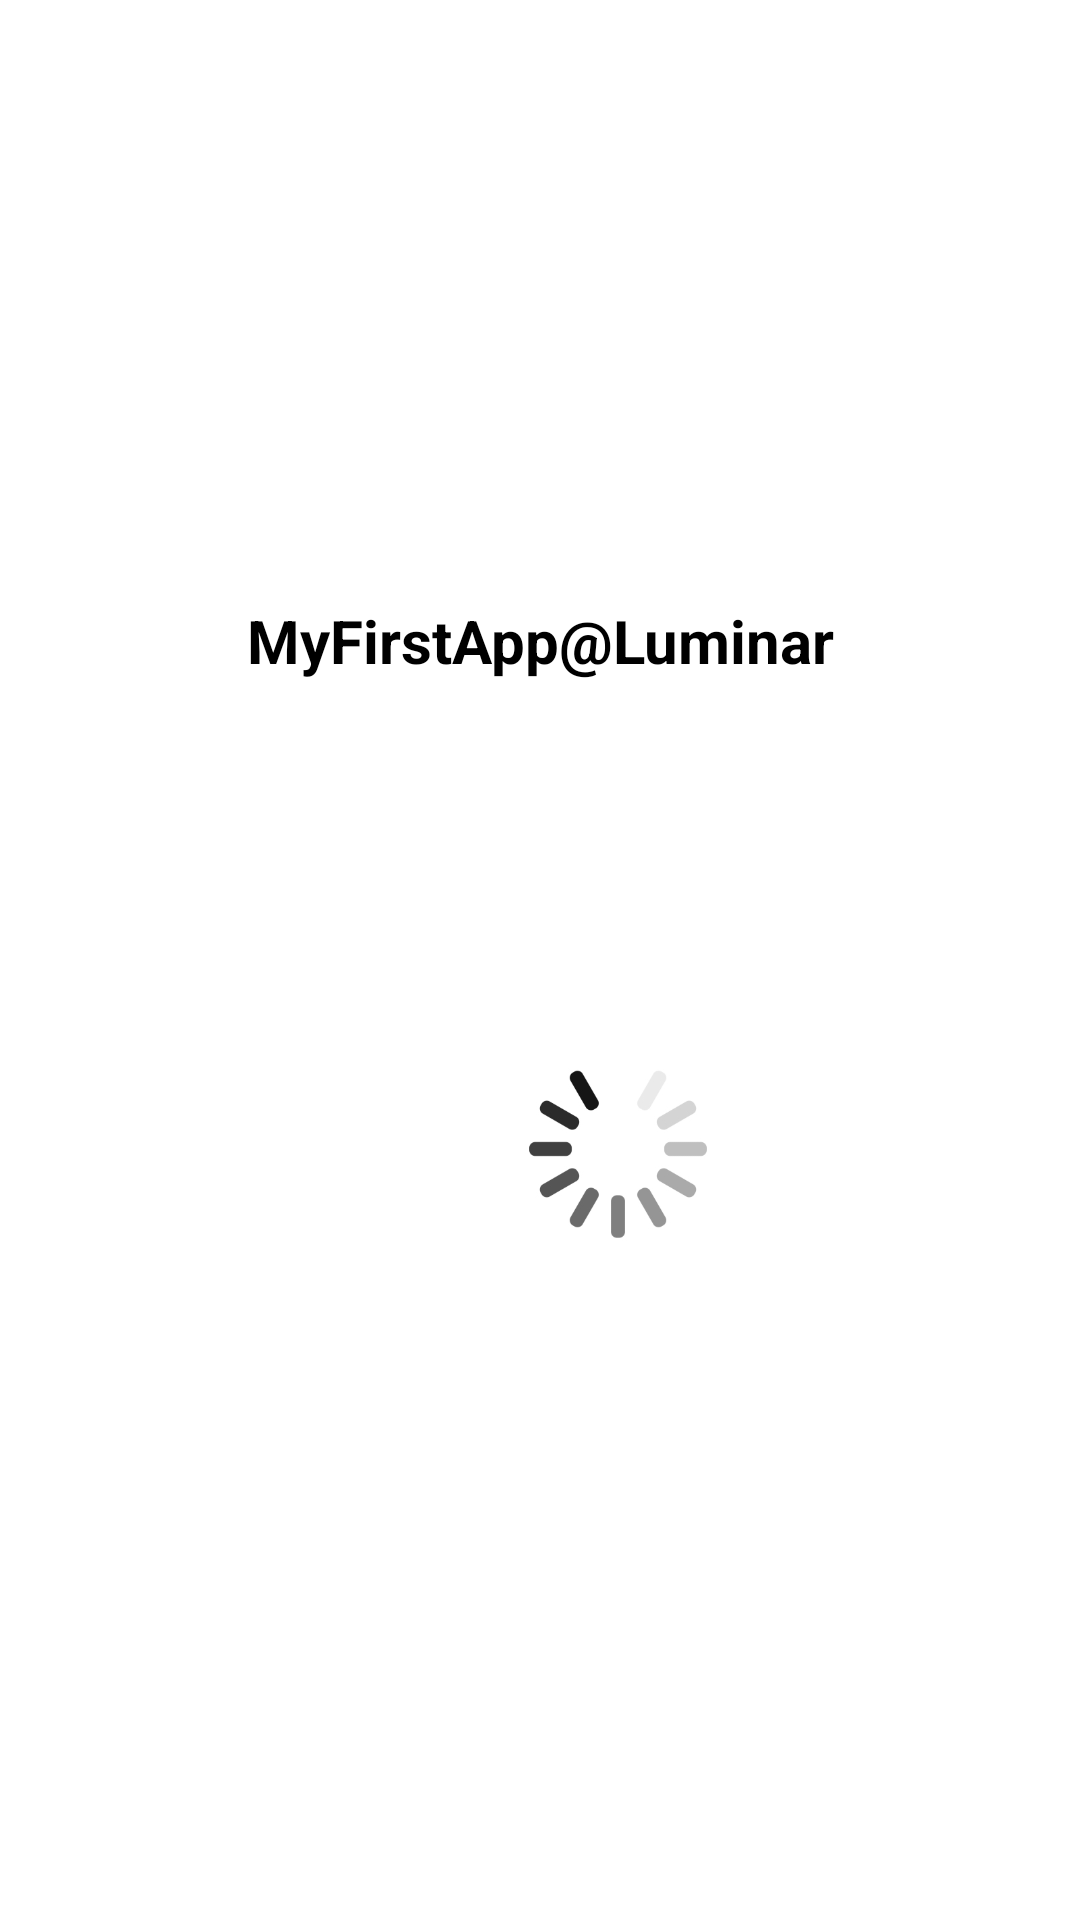

Screen size 1080x1920. Icon name, then its center in pixels as point (x, y):
loading: point (618, 1154)
